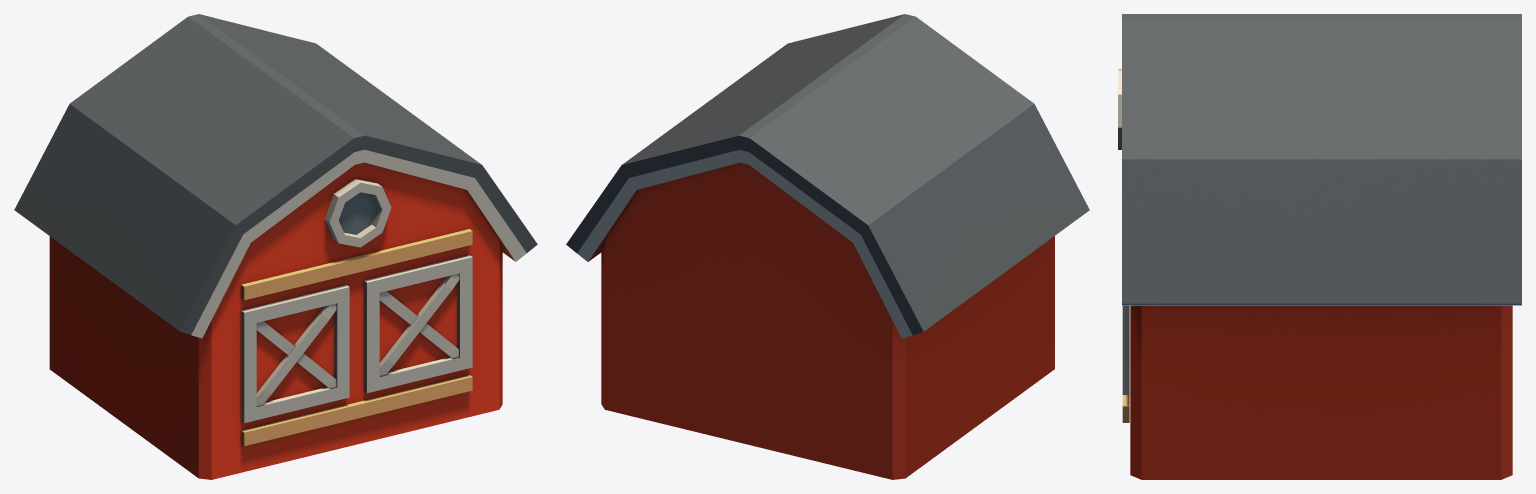
The model's file is Barn.glb.
3 renders of one model, left to right at view 1: azimuth 30°, elevation 25°; view 2: azimuth 150°, elevation 25°; view 3: azimuth 270°, elevation 25°, orthographic. The views are drawn at different scales.
Visible parts, largest first — view 1: barn; view 2: barn; view 3: barn.
Part boxes in pixels (x1,y1,x2,y2): barn: (14, 14, 537, 479); barn: (566, 14, 1089, 479); barn: (1118, 14, 1521, 479).
Size of the model in its own units: 1.68 by 1.4 by 1.37.
Materials: 1 (1 with a texture image).
